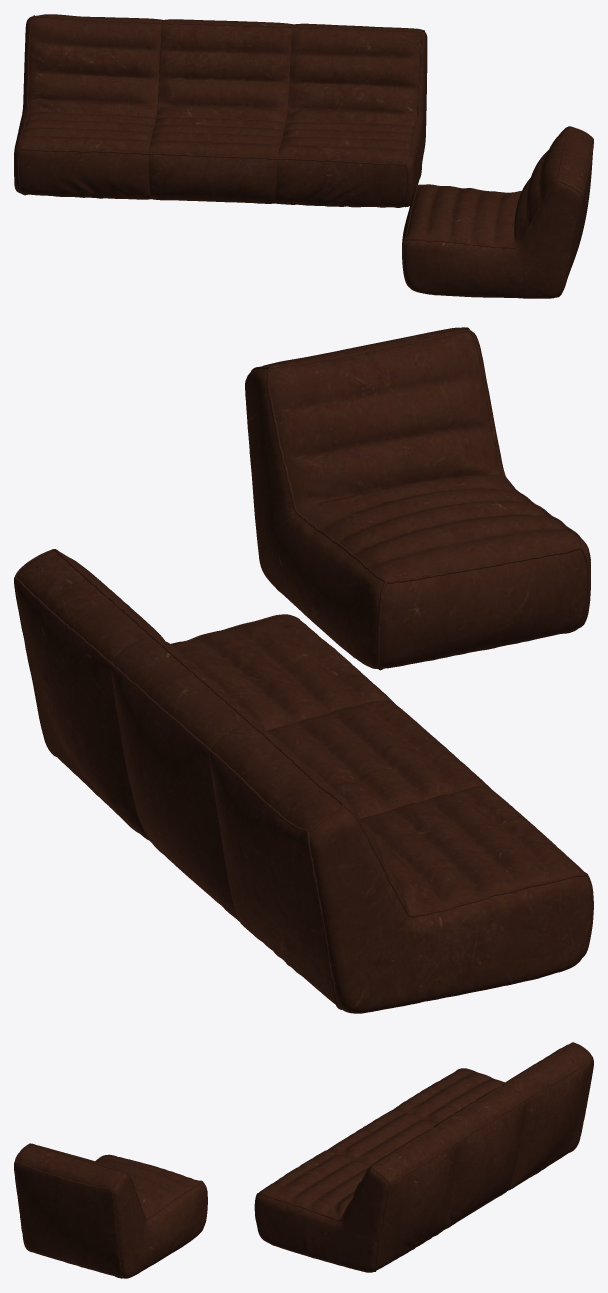
File: sofa_leather.glb
The picture shows the model from 3 angles, top to bottom: view 1: azimuth 30°, elevation 25°; view 2: azimuth 150°, elevation 25°; view 3: azimuth 270°, elevation 25°; orthographic projection. The views are drawn at different scales.
Visible parts, largest first — view 1: Object_4, Object_5, Object_2; view 2: Object_4, Object_2, Object_5; view 3: Object_4, Object_2, Object_5.
Boxes of the visible parts, left/top/right/bottom form: Object_4: left=14, top=14, right=427, bottom=207; Object_5: left=149, top=19, right=293, bottom=203; Object_2: left=402, top=126, right=593, bottom=298; Object_4: left=14, top=549, right=593, bottom=1013; Object_2: left=245, top=327, right=590, bottom=670; Object_5: left=111, top=636, right=488, bottom=921; Object_4: left=254, top=1042, right=593, bottom=1272; Object_2: left=14, top=1143, right=207, bottom=1278; Object_5: left=327, top=1085, right=526, bottom=1230.
Size of the model in its own units: 270 by 82.87 by 383.
2 materials, 2 textured.
